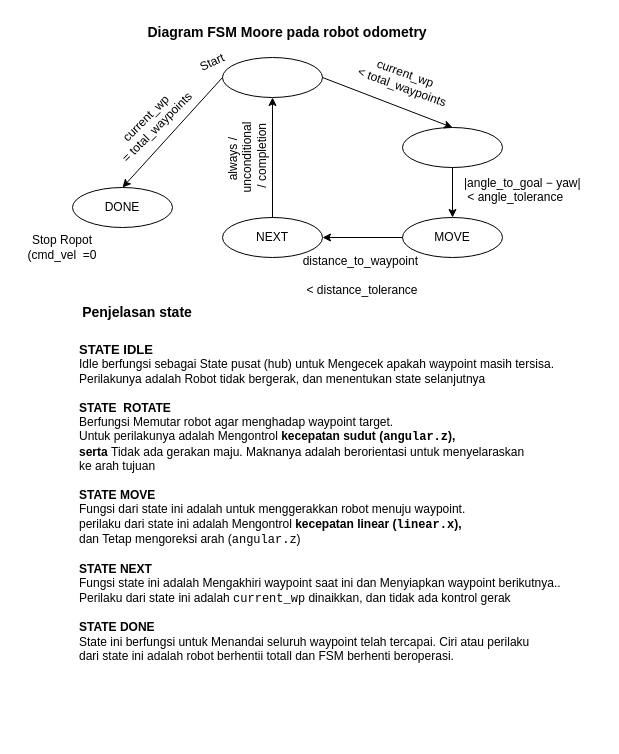
The diagram is 619 pixels wide and 754 high, and some of its shapes have lost their labels. Each missing label, with the centre of its shape:
IDLE: (272,77)
ROTATE: (452,147)
